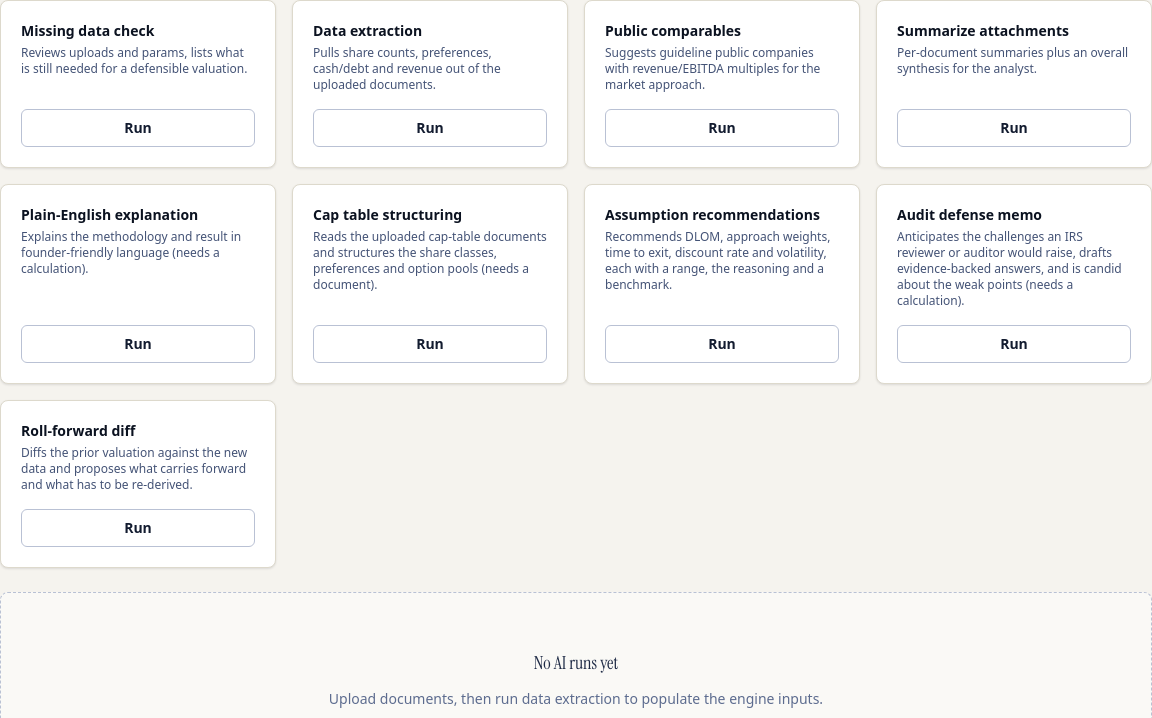
Test: AiPanel › running a pipeline › reports a failed run and still re-reads the history
Expected: the text "No AI runs yet" is shown, 534,651 -> 618,675
Click the 2nd button "Run".
click(430, 128)  # box 313,109 -> 547,147
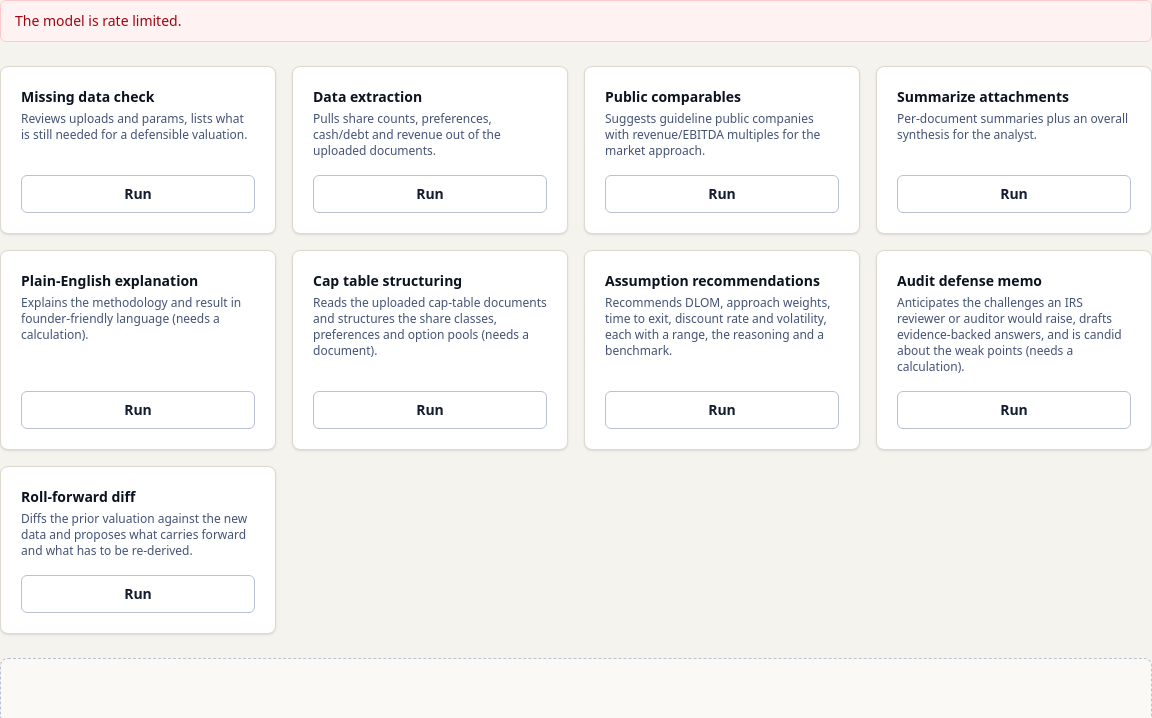
Expected: the message reads "The model is rate limited.", 15,11 -> 181,30
